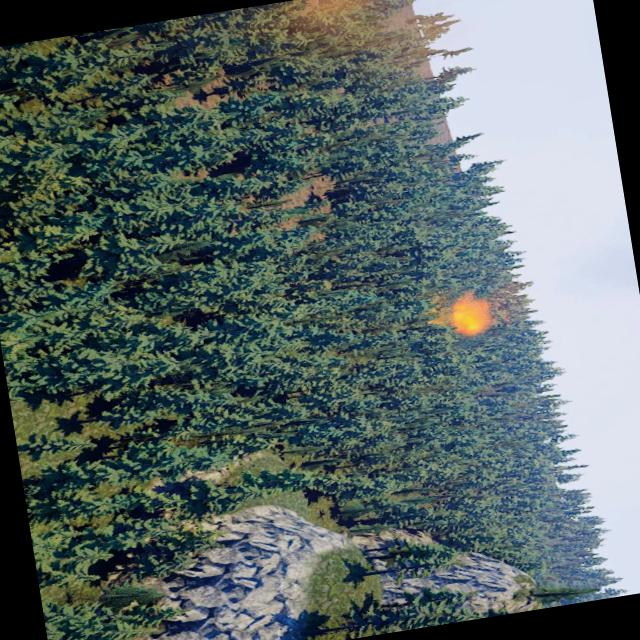smoke: (269, 0, 432, 97), (451, 284, 536, 338)
